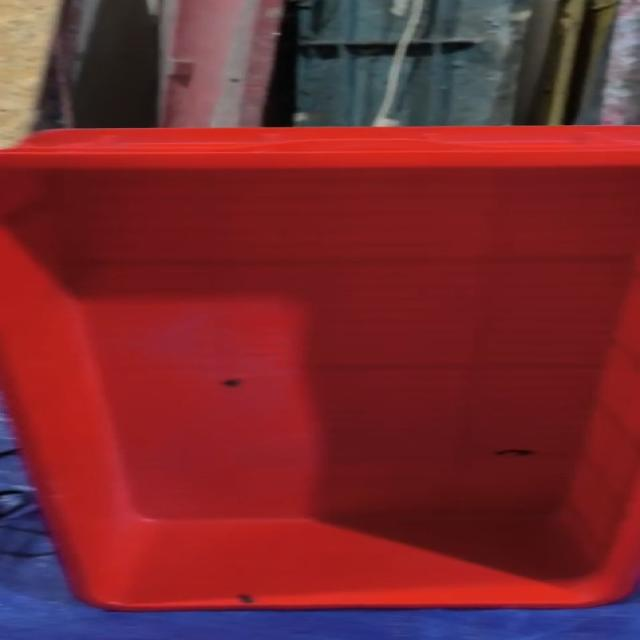red plastic box: (0, 126, 639, 613)
